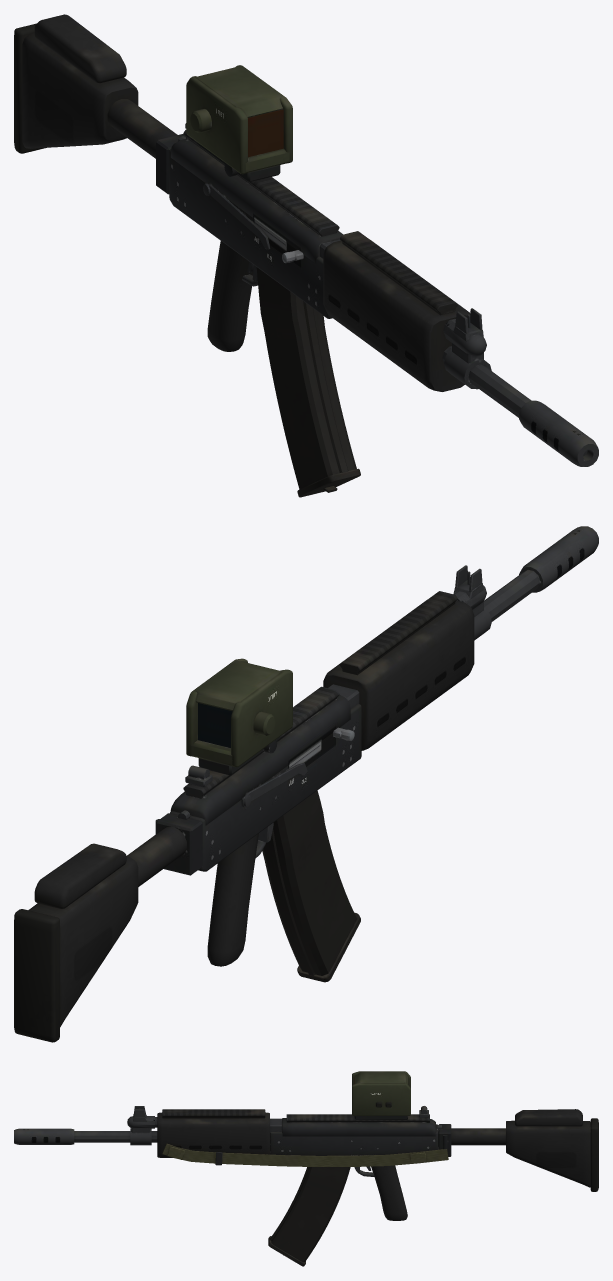
3 renders of one model, top to bottom at view 1: azimuth 30°, elevation 25°; view 2: azimuth 150°, elevation 25°; view 3: azimuth 270°, elevation 25°, orthographic. The views are drawn at different scales.
Visible parts, largest first — view 1: ak12_mesh, magazine; view 2: ak12_mesh, magazine; view 3: ak12_mesh, magazine.
Part boxes in pixels (x1,y1,x2,y2): ak12_mesh: [14, 14, 598, 466]; magazine: [256, 267, 360, 497]; ak12_mesh: [14, 526, 598, 1042]; magazine: [262, 790, 360, 982]; ak12_mesh: [14, 1071, 598, 1220]; magazine: [268, 1167, 350, 1266].
Size of what is drawn, in the model's own units: 0.0694 by 0.3463 by 0.987.
1 material, 1 textured.
